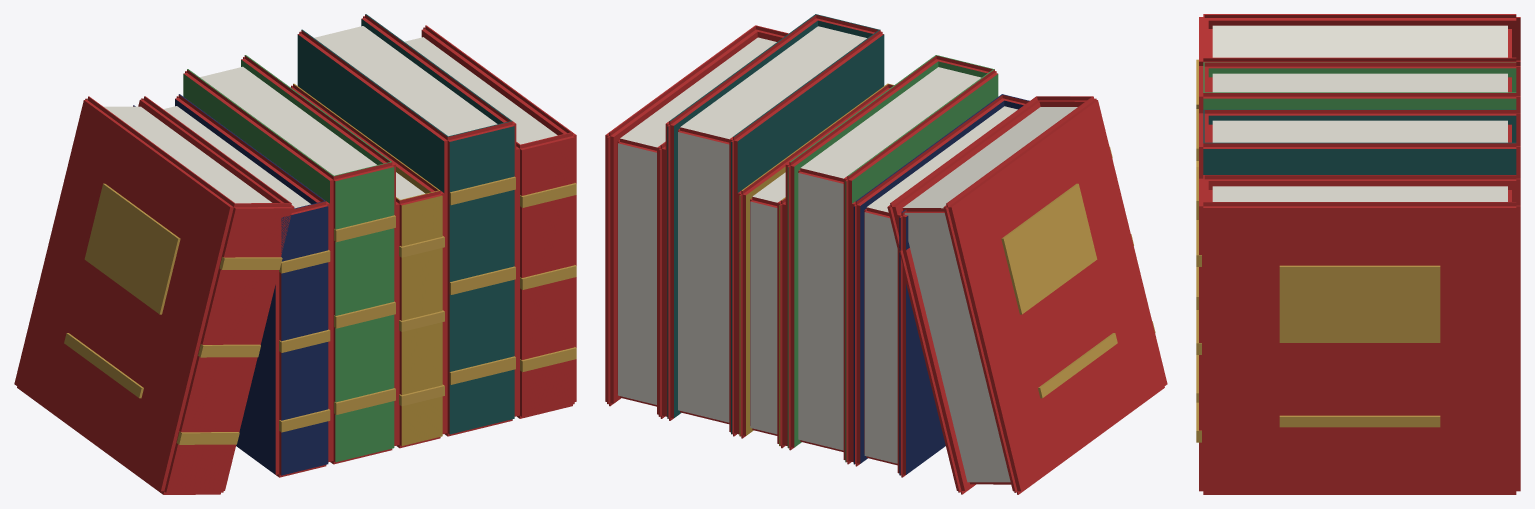
File: books.glb
3 views of the same model, side by side, from view 1: azimuth 30°, elevation 25°; view 2: azimuth 150°, elevation 25°; view 3: azimuth 270°, elevation 25° (orthographic). The views are drawn at different scales.
Parts seen in each view (by area): view 1: books(Clone); view 2: books(Clone); view 3: books(Clone).
Boxes of the visible parts, x1,y1,x2,y2 form: books(Clone): (14,14,576,494); books(Clone): (605,14,1167,494); books(Clone): (1196,14,1520,494).
Bounding box in the file's own units: 0.1504 × 0.1039 × 0.0945.
